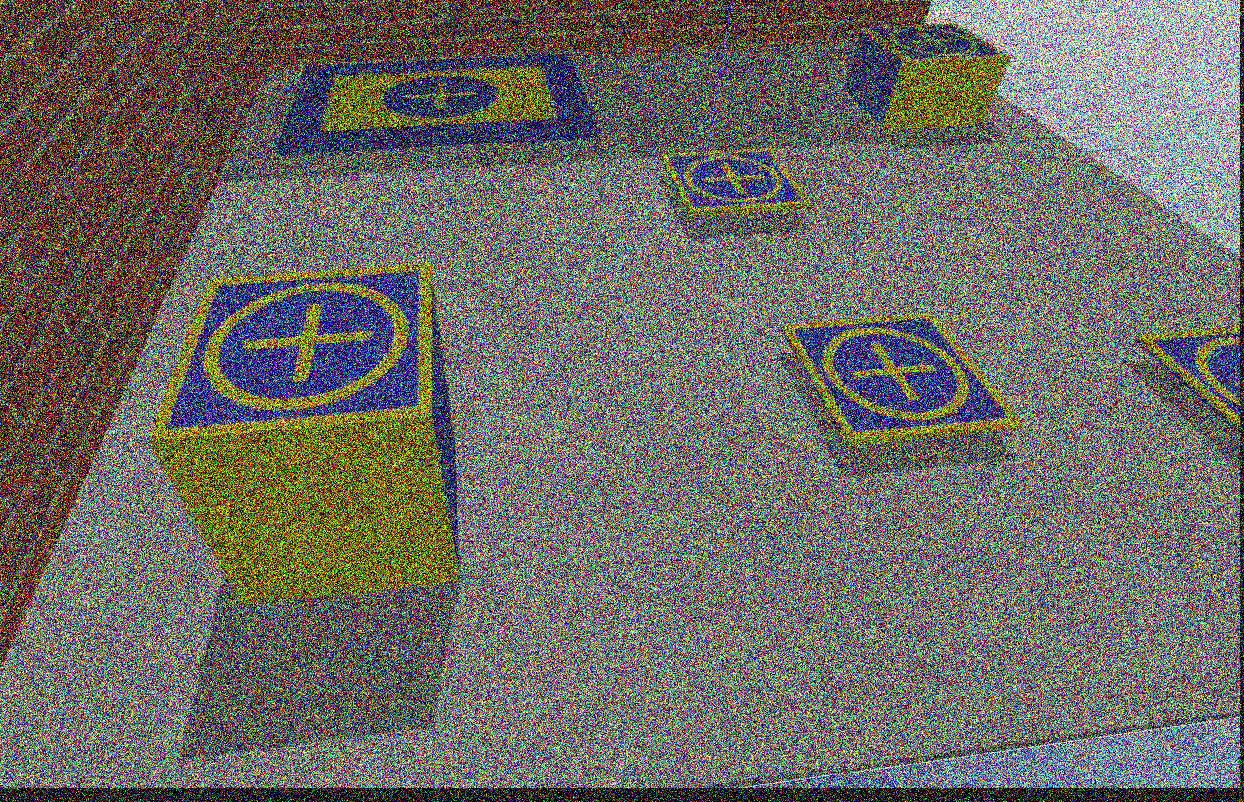large_base: (275, 56, 604, 157)
small_base: (144, 261, 434, 444), (785, 317, 1027, 444), (1133, 328, 1244, 432), (661, 149, 812, 216), (856, 21, 1011, 67)
